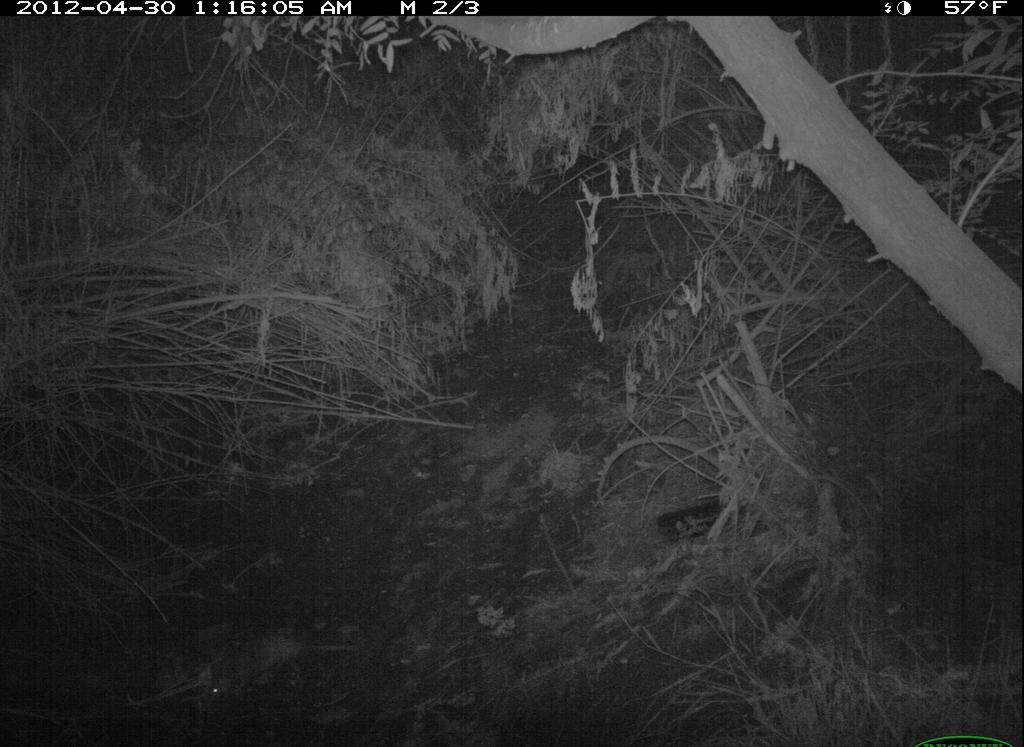opossum: (176, 615, 373, 721)
